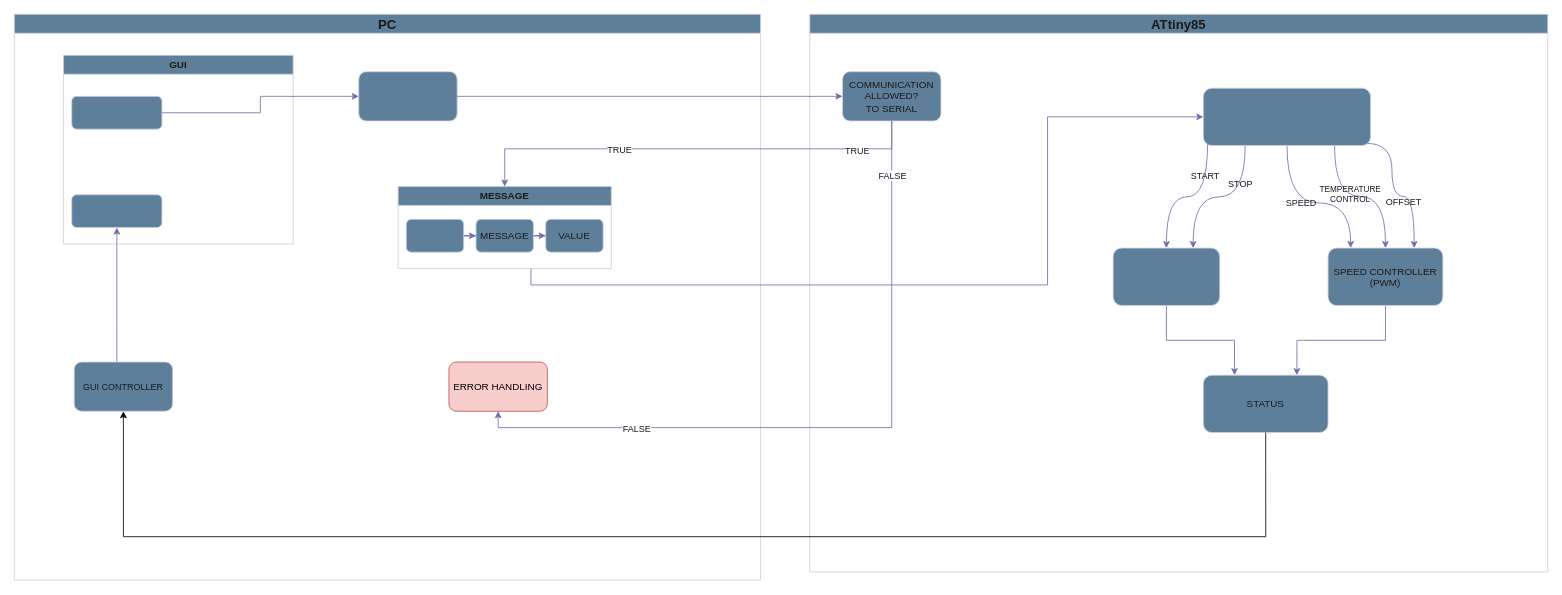
Image size: 1562x595. Some labels were removed from this diagram. The shapes that lost their labels are listed below. From the top down, each one's centre as x and y in pixels, then its label:
(116,112): USER INTERACTION
(407,96): COMMUNICATION REGUEST TO SERIAL
(1287,116): MESSAGE TYPE
(116,211): NODE VALUE CHANGE
(434,235): TYPE
(1166,276): ON/OFF CONTROLLER
